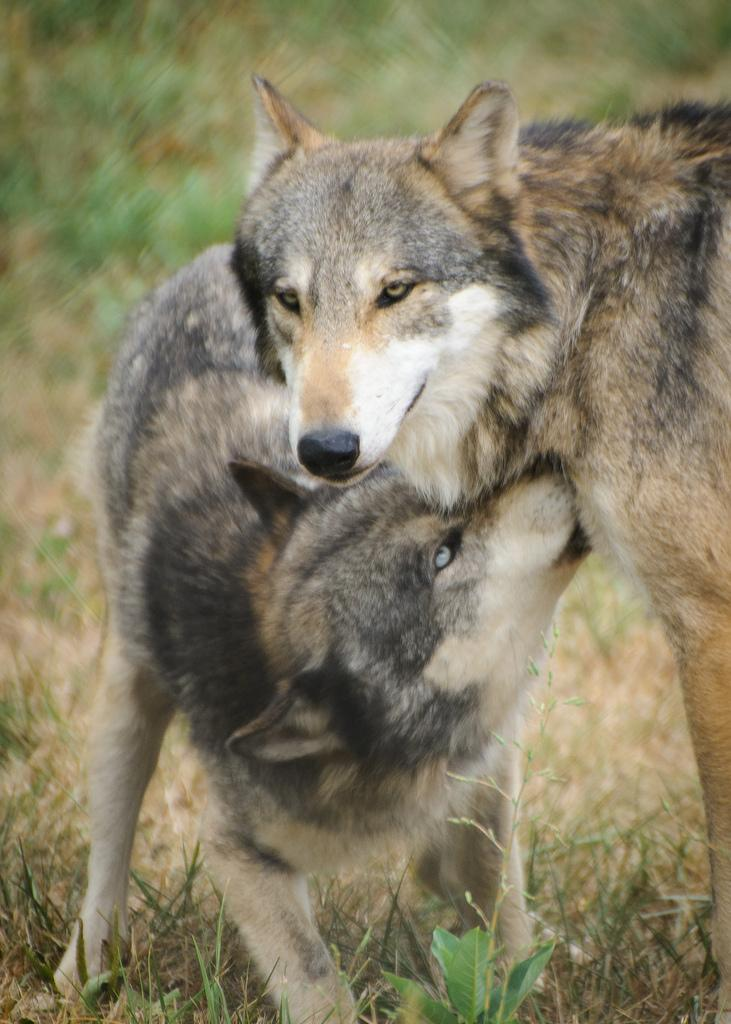Wolf: (244, 61, 731, 1024), (61, 248, 587, 1023)
